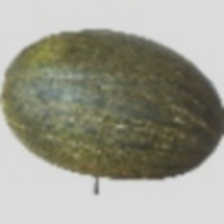honeydew: (52, 20, 192, 167)
